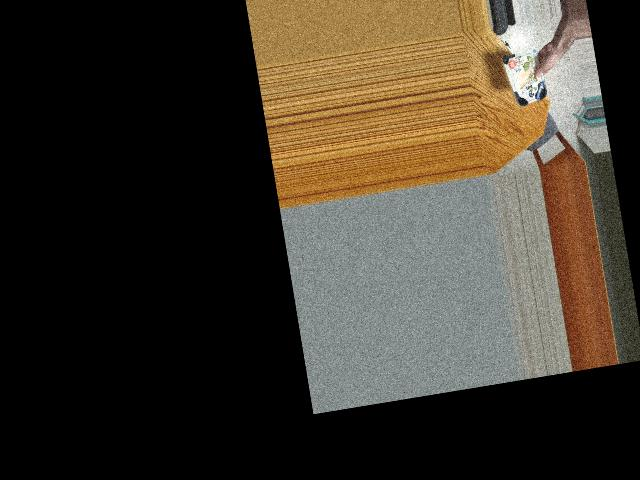cheese: (508, 52, 546, 106)
